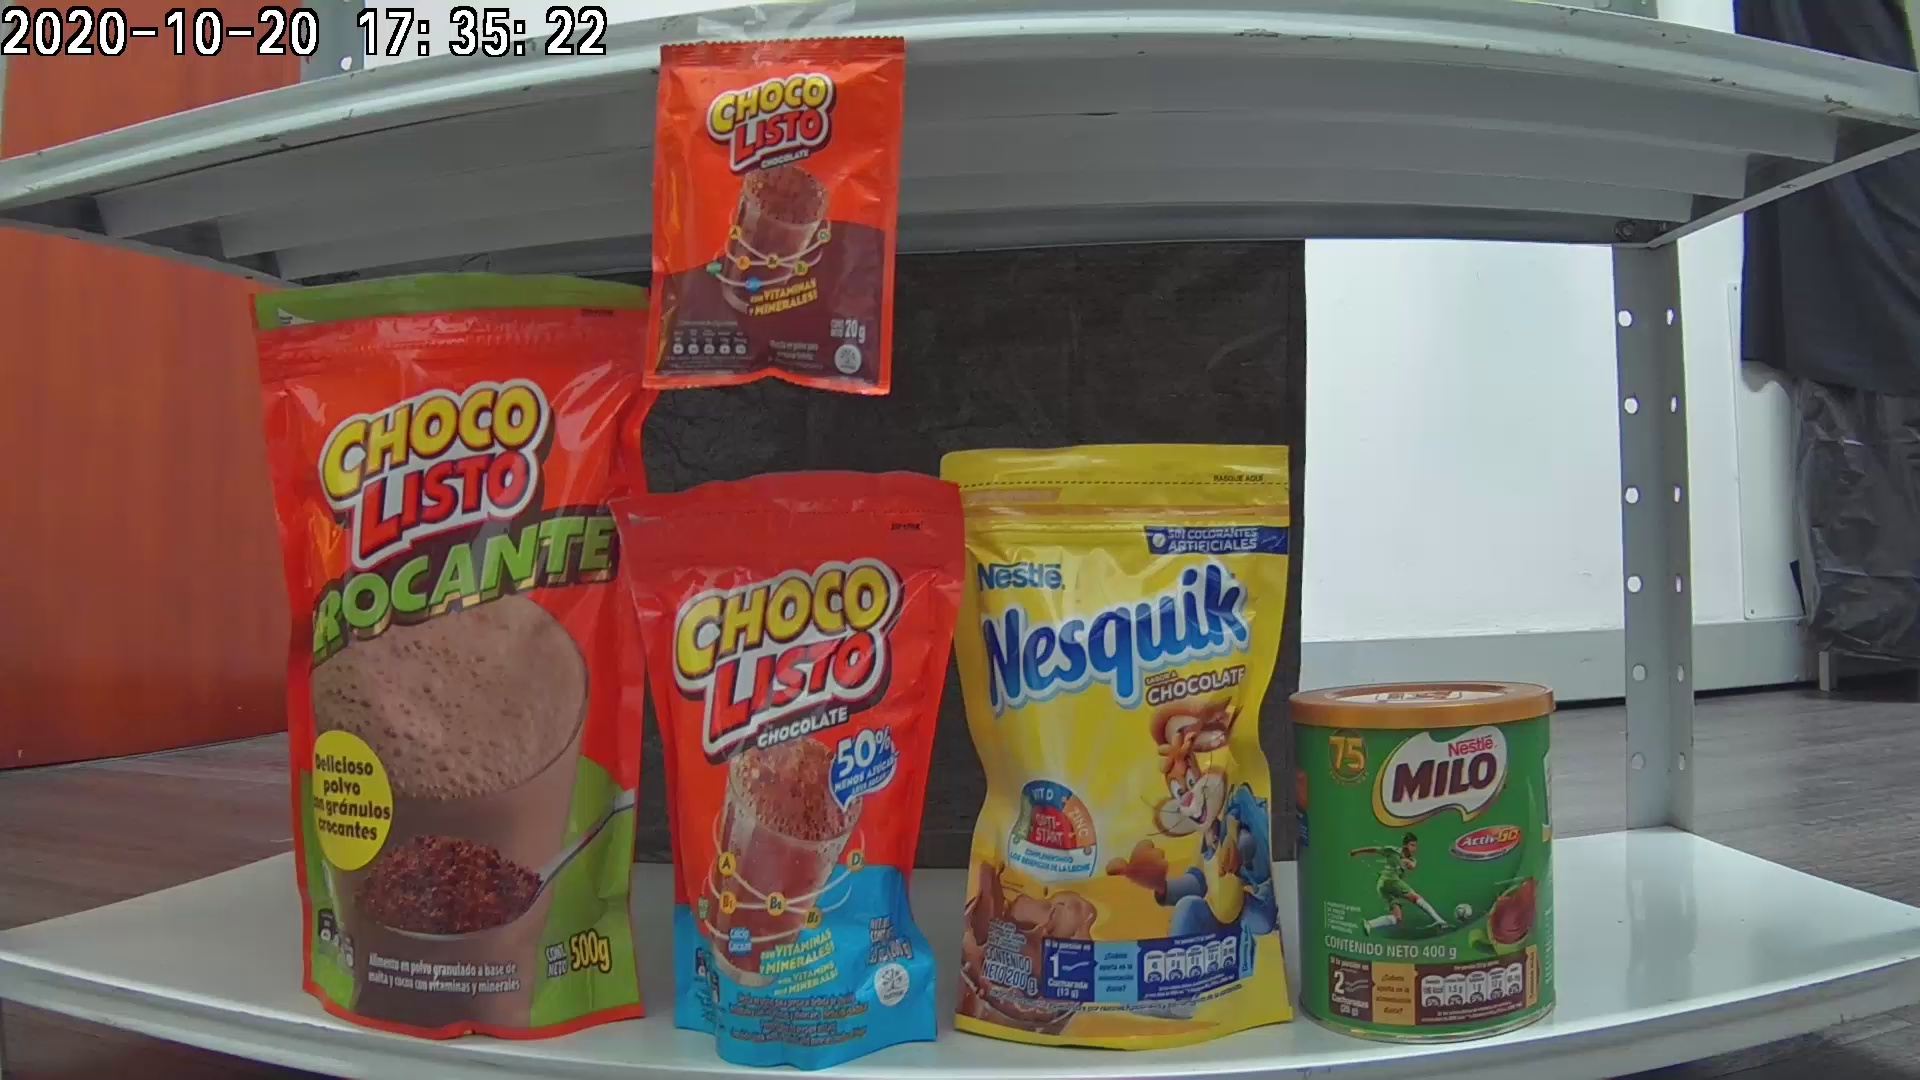COL0170102DYP50000: (229, 270, 691, 1054)
COL0170103SOB02000: (632, 21, 920, 407)
COL0170104DYP20000: (605, 469, 1004, 1077)
COL0170203LAT40000: (1287, 655, 1571, 1040)
COL0170303DYP20000: (940, 438, 1320, 1054)
